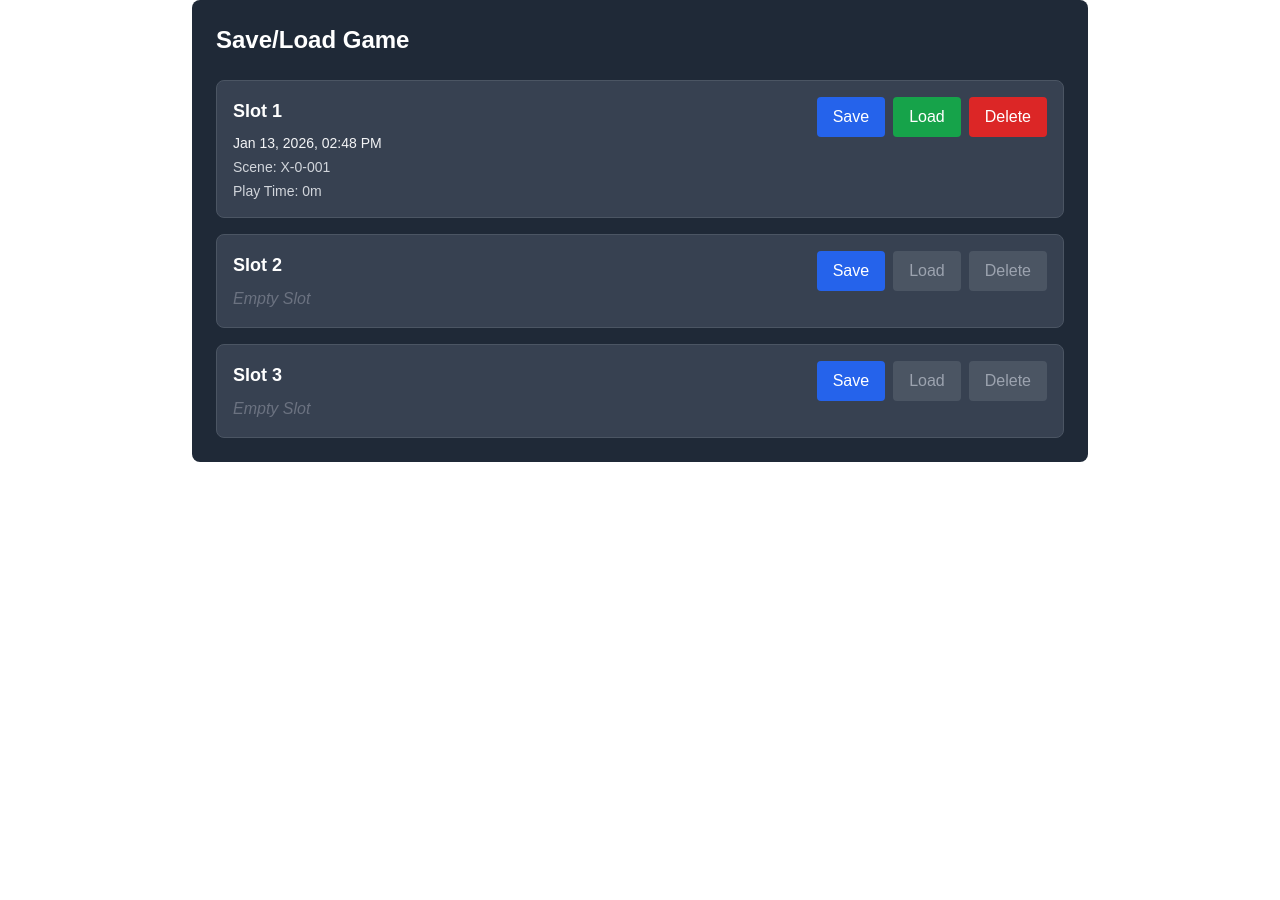
SaveLoadMenu › should show confirmation dialog when overwriting existing save
The image size is (1280, 900).
Click the 1st button "Save": point(851, 117) [817, 97, 885, 137]
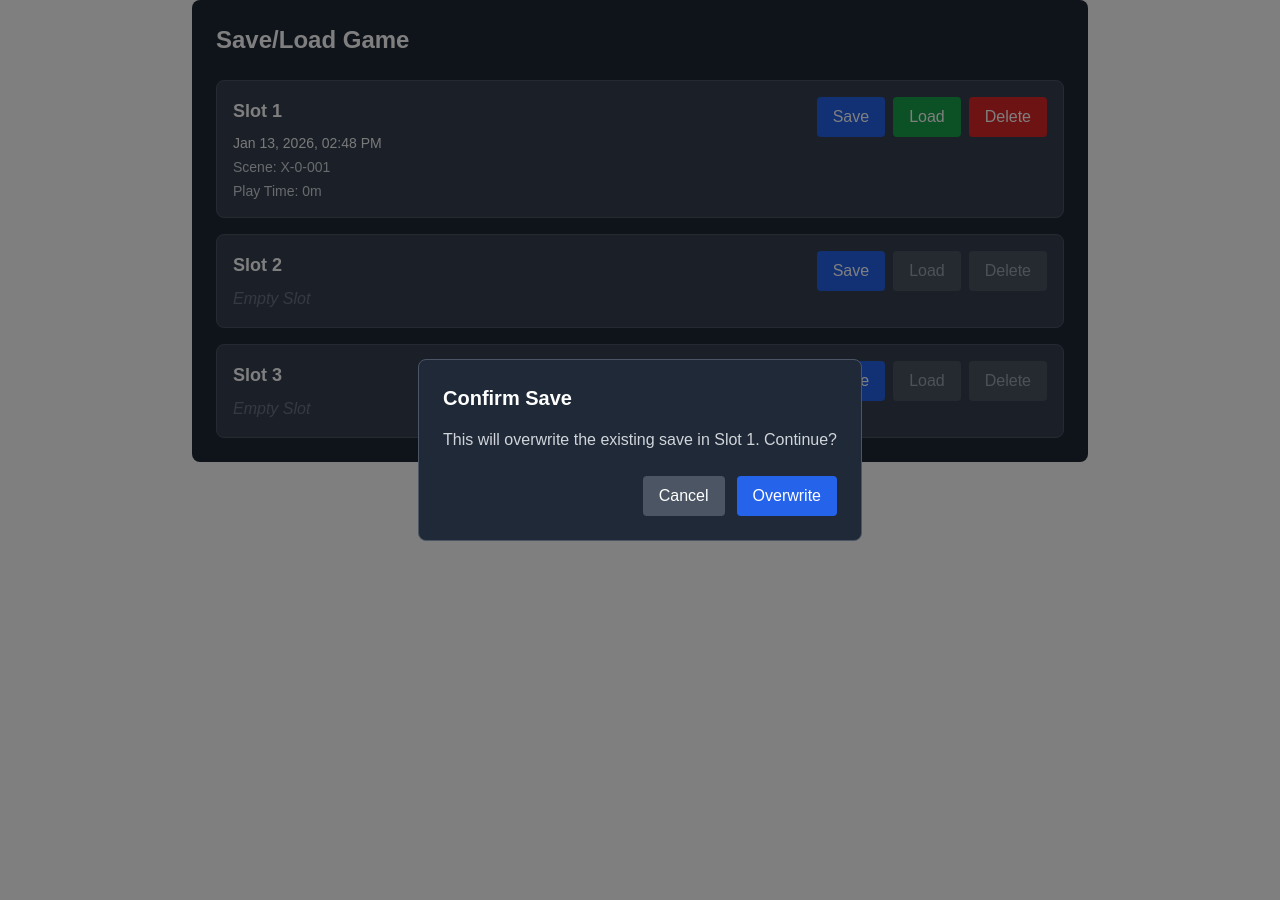
Expected: the heading "Confirm Save" is shown, [443, 387, 572, 409]
Expected: the text "This will overwrite the existing save in Slot 1. Continue?" is shown, [443, 428, 837, 452]
